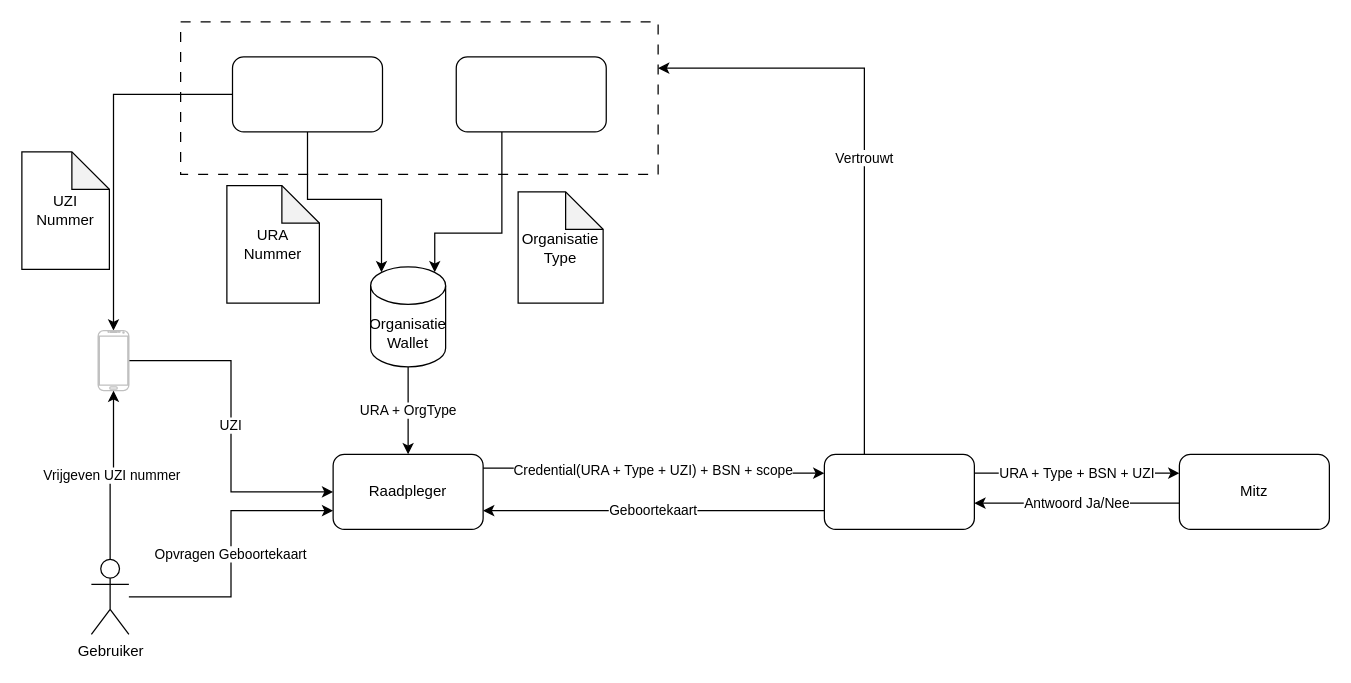
Some shapes in this 1351 by 683 pixel diagram are drawn without their labels. Each missing label, with the centre of its shape:
Bronhouder: pixel 898 491
CIBG: pixel 306 94
Vektis: pixel 530 94
